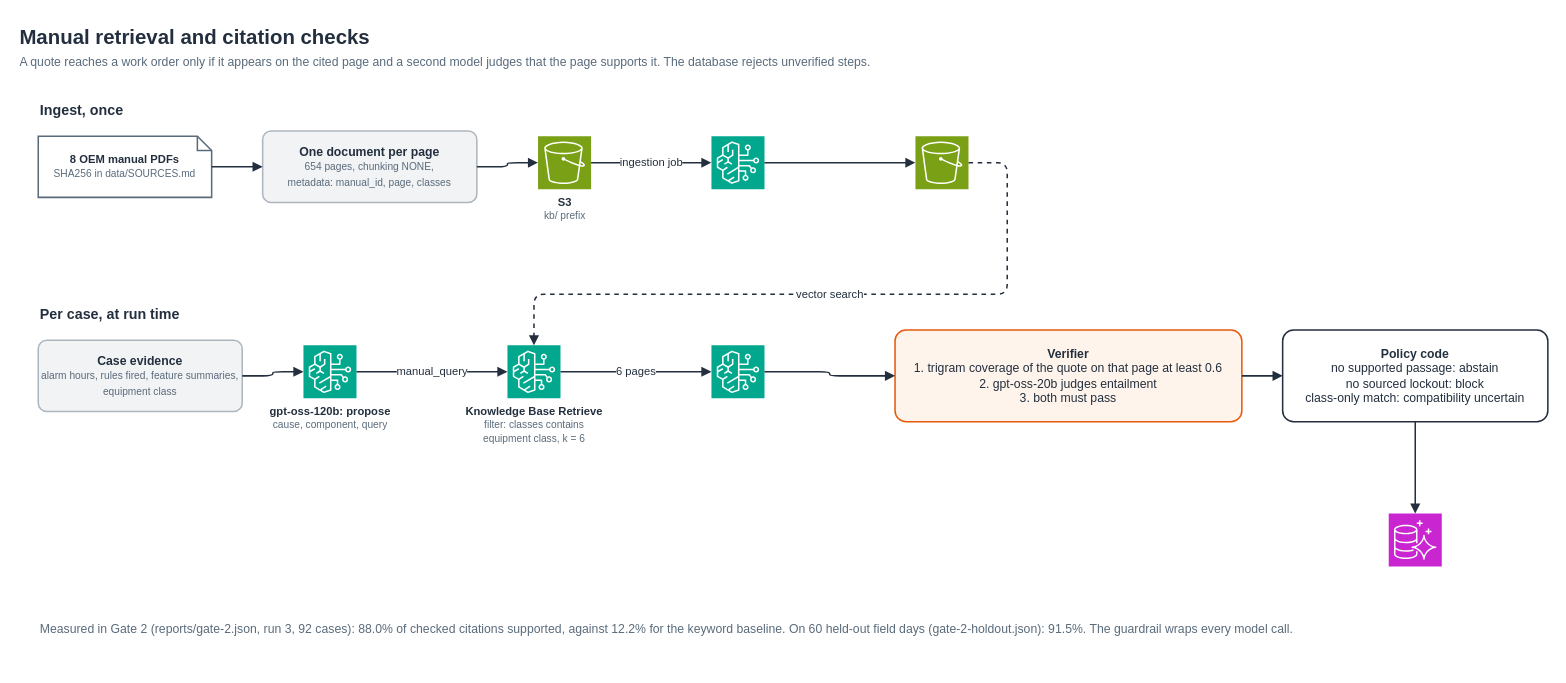
This 1566x683 diagram has some shape labels left out. The centre of each missing label's shape, as x and y in pixels:
Aurora: work_order_steps CHECK (verified): pixel 1415 540
gpt-oss-120b: cite quotes with manual and page: pixel 737 371
S3 Vectors index Knowledge Base storage: pixel 941 162
Titan text embeddings v2 1024 dimensions: pixel 737 162
